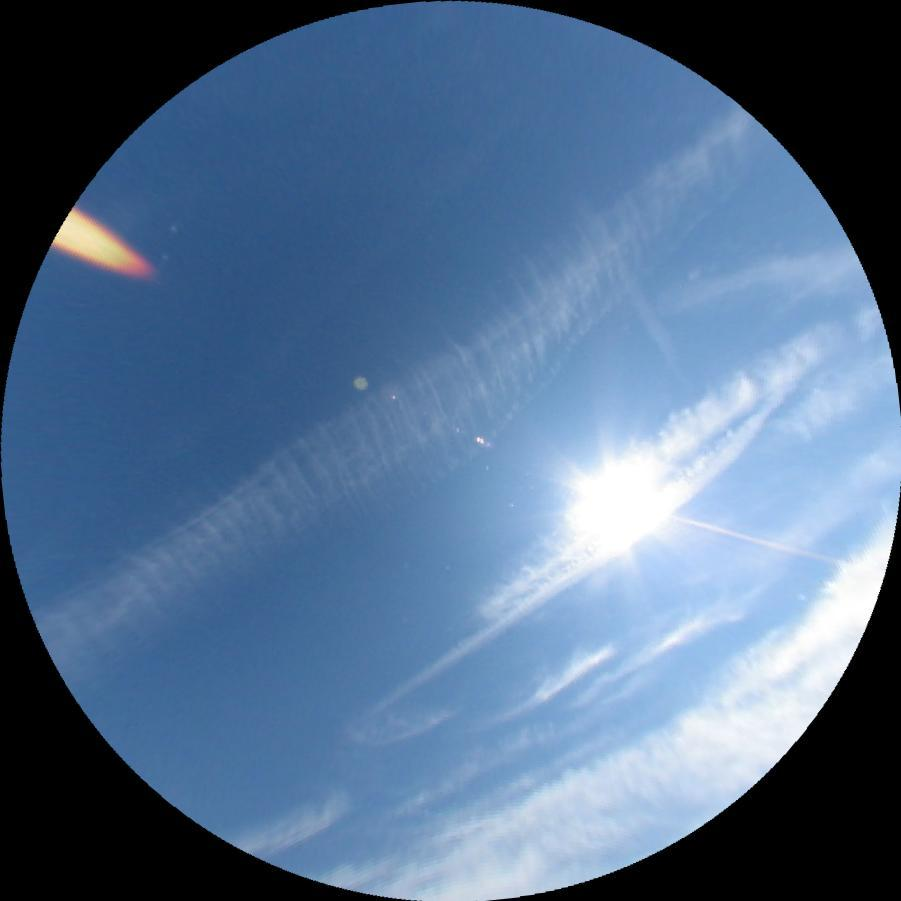contrail veryold: (18, 99, 824, 724), (369, 378, 814, 735), (451, 272, 889, 627), (652, 247, 870, 319), (611, 259, 677, 358)
parasite: (663, 511, 847, 567)
sun: (566, 463, 668, 545)
